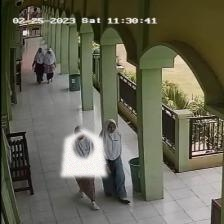Mukena: (60, 129, 107, 176)
